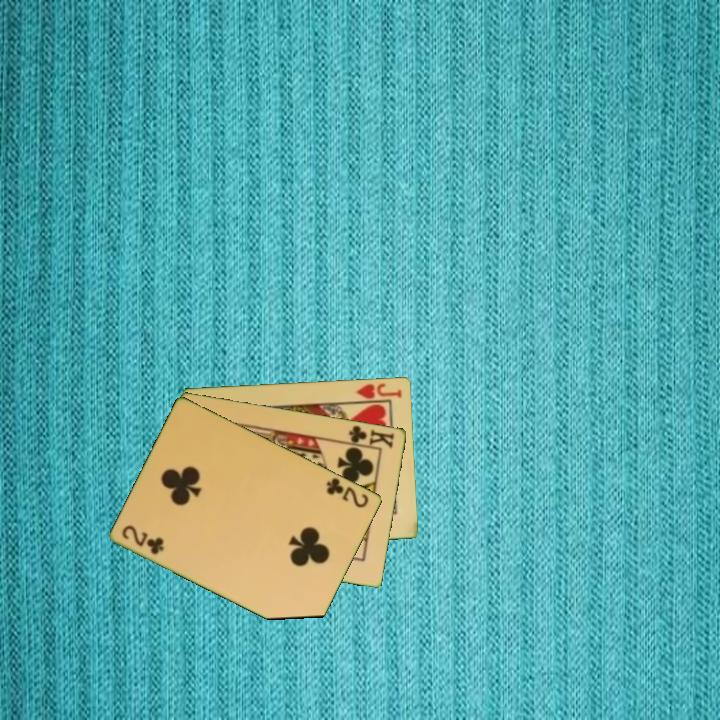2c: (323, 474, 372, 511), (119, 521, 167, 558)
Jh: (353, 379, 405, 401)
Kc: (342, 421, 397, 451)
